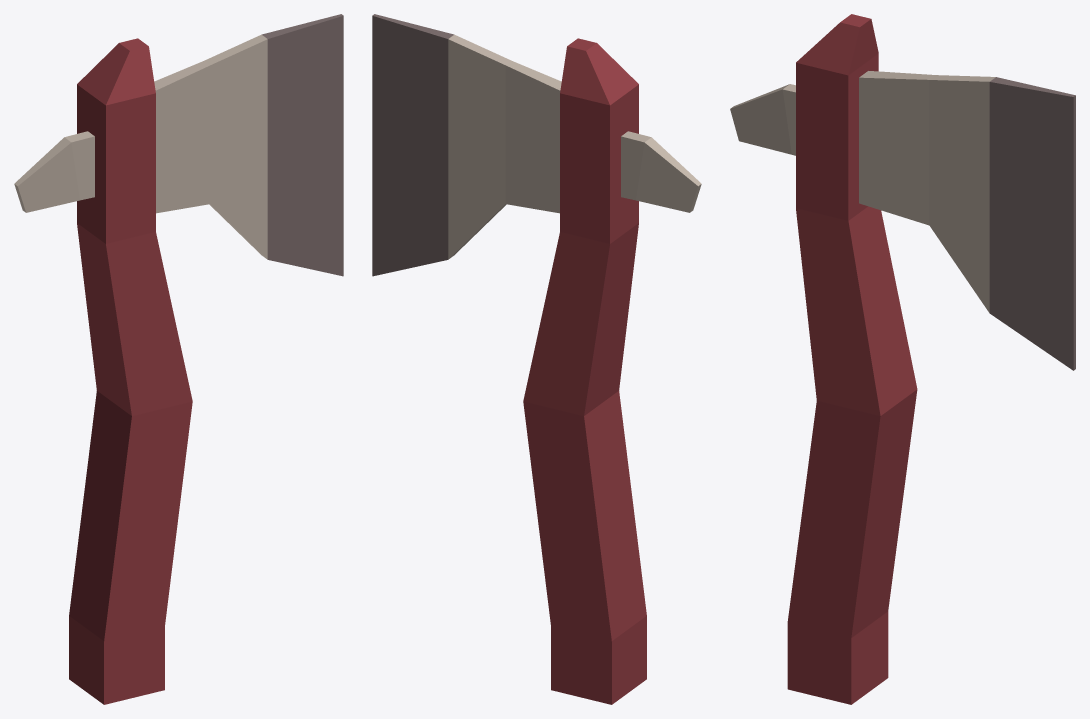
Rendered from Axe.fbx.
3 views of the same model, side by side, from view 1: azimuth 30°, elevation 25°; view 2: azimuth 150°, elevation 25°; view 3: azimuth 330°, elevation 25° (orthographic). The views are drawn at different scales.
Visible parts, largest first — view 1: Axe; view 2: Axe; view 3: Axe.
Boxes of the visible parts, <box> form: Axe: <box>14,14,343,704</box>; Axe: <box>372,14,701,704</box>; Axe: <box>730,14,1075,704</box>.
Size of the model in its own units: 26.87 by 49.98 by 5.
